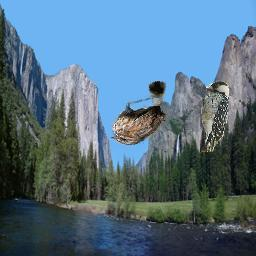Sparrow: (110, 81, 166, 145)
Woodpecker: (201, 80, 230, 152)
